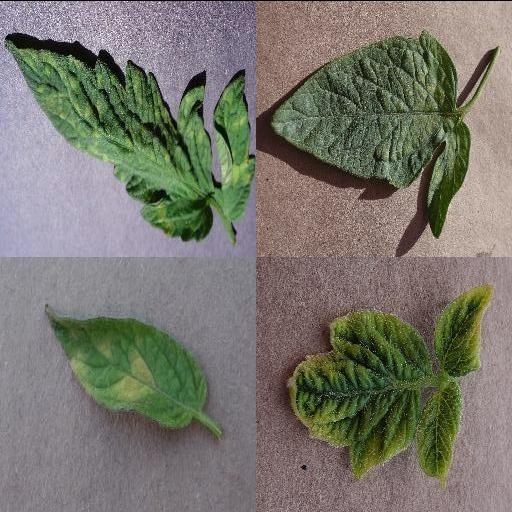Leaf Mold: (5, 41, 211, 241), (43, 302, 209, 428), (212, 73, 256, 217)
Spider Mites: (269, 27, 471, 239)
Yellow Leaf Curl Virus: (287, 308, 429, 474), (432, 279, 492, 377), (417, 382, 465, 485)
